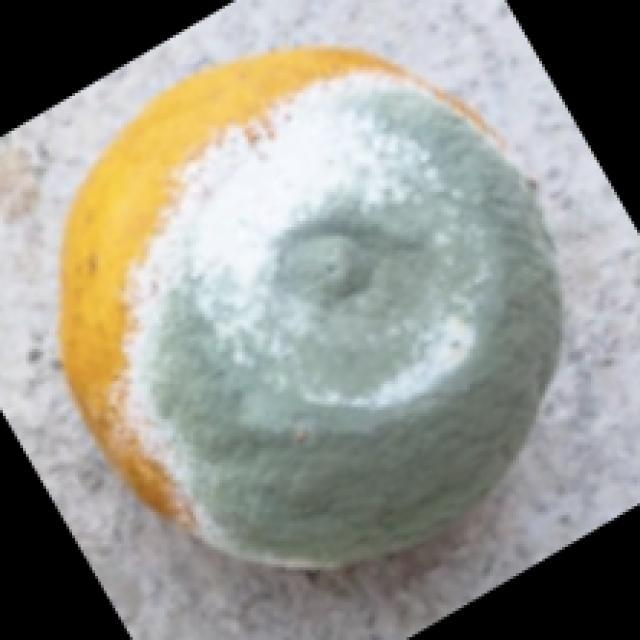sangat-busuk: (60, 49, 567, 570), (123, 67, 567, 570)
